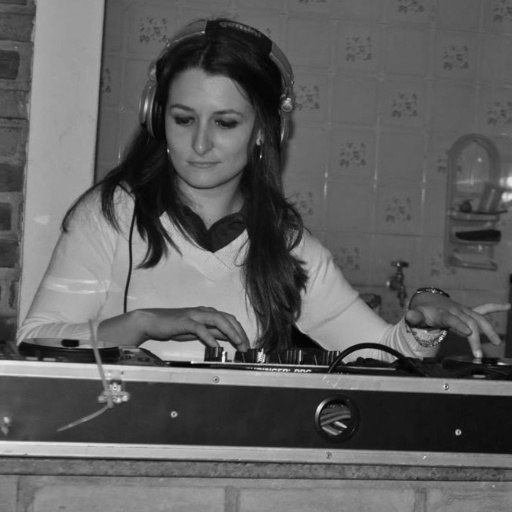hand: (389, 270, 479, 345), (142, 306, 253, 354)
